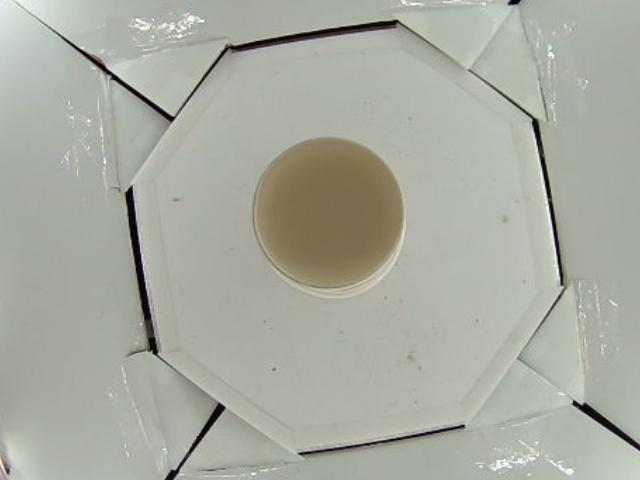Cup: (252, 134, 409, 295)
